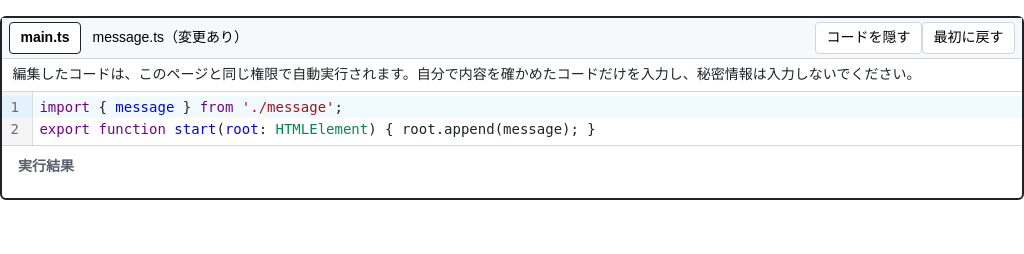
changedFrom を渡したファイルは、タブと説明で「前の段階から変わった」ことがわかる
What coordinates should you click on to do the following:
click the tab "message.ts（変更あり）"
I would click on:
 (170, 38)
Its box is [81, 22, 260, 54].
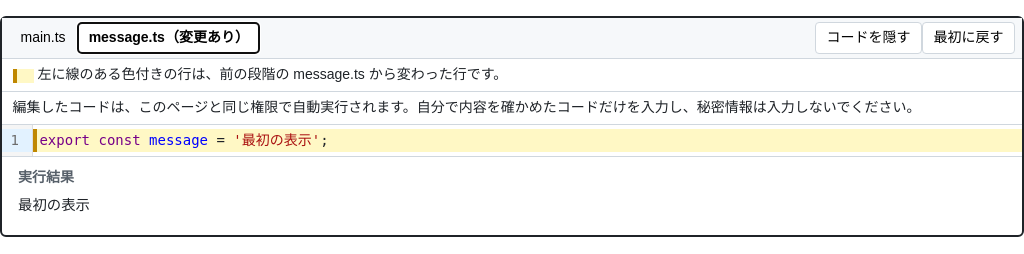
Now the text "左に線のある色付きの行は、前の段階の message.ts から変わった行です。" is shown, box [2, 59, 1022, 92]
